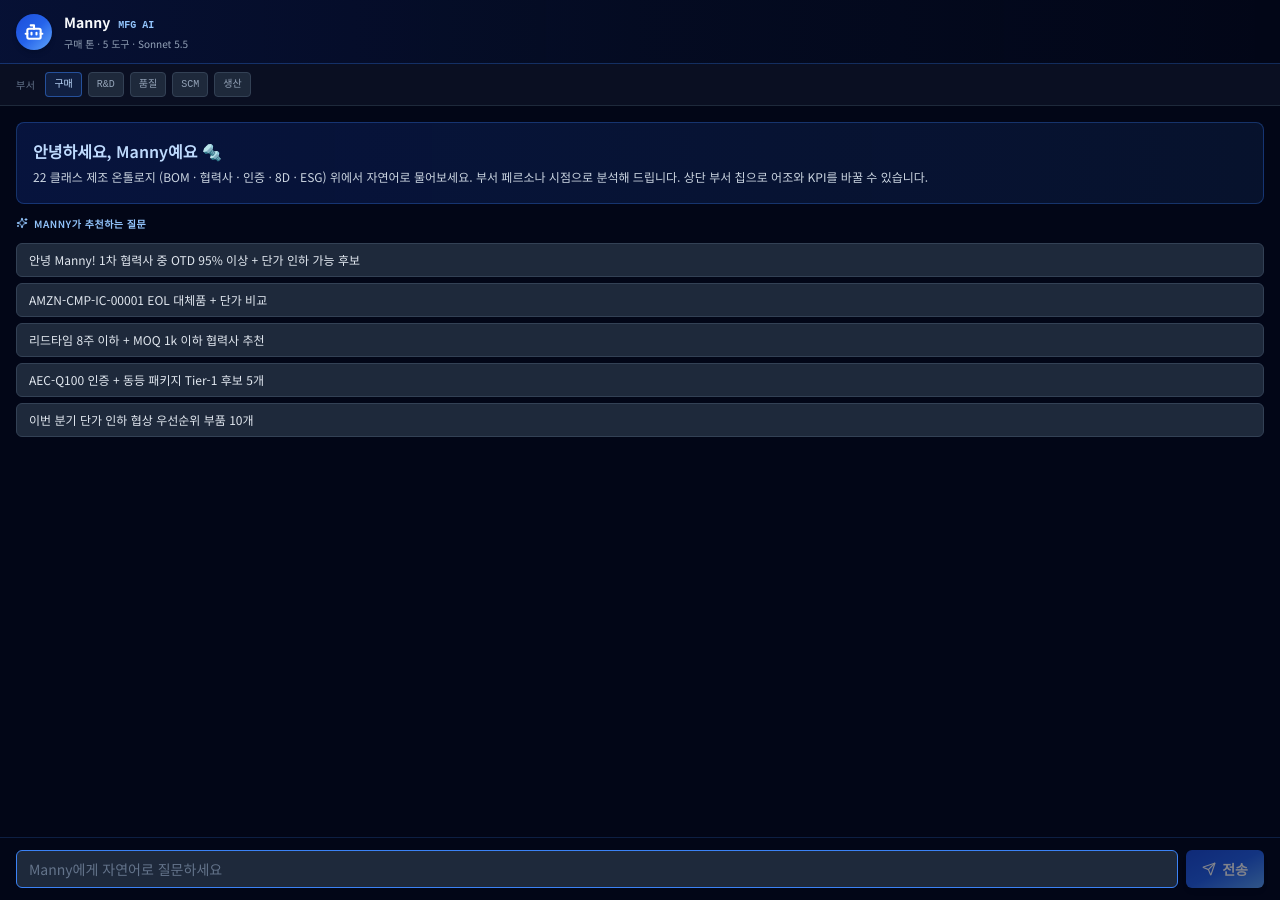
Test: Manny popup page › switching persona mid-stream cancels the stream
Step 1. Click the button "AMZN-CMP-IC-00001 EOL 대체품 + 단가 비교" → (148, 299), box [16,282,1264,316]
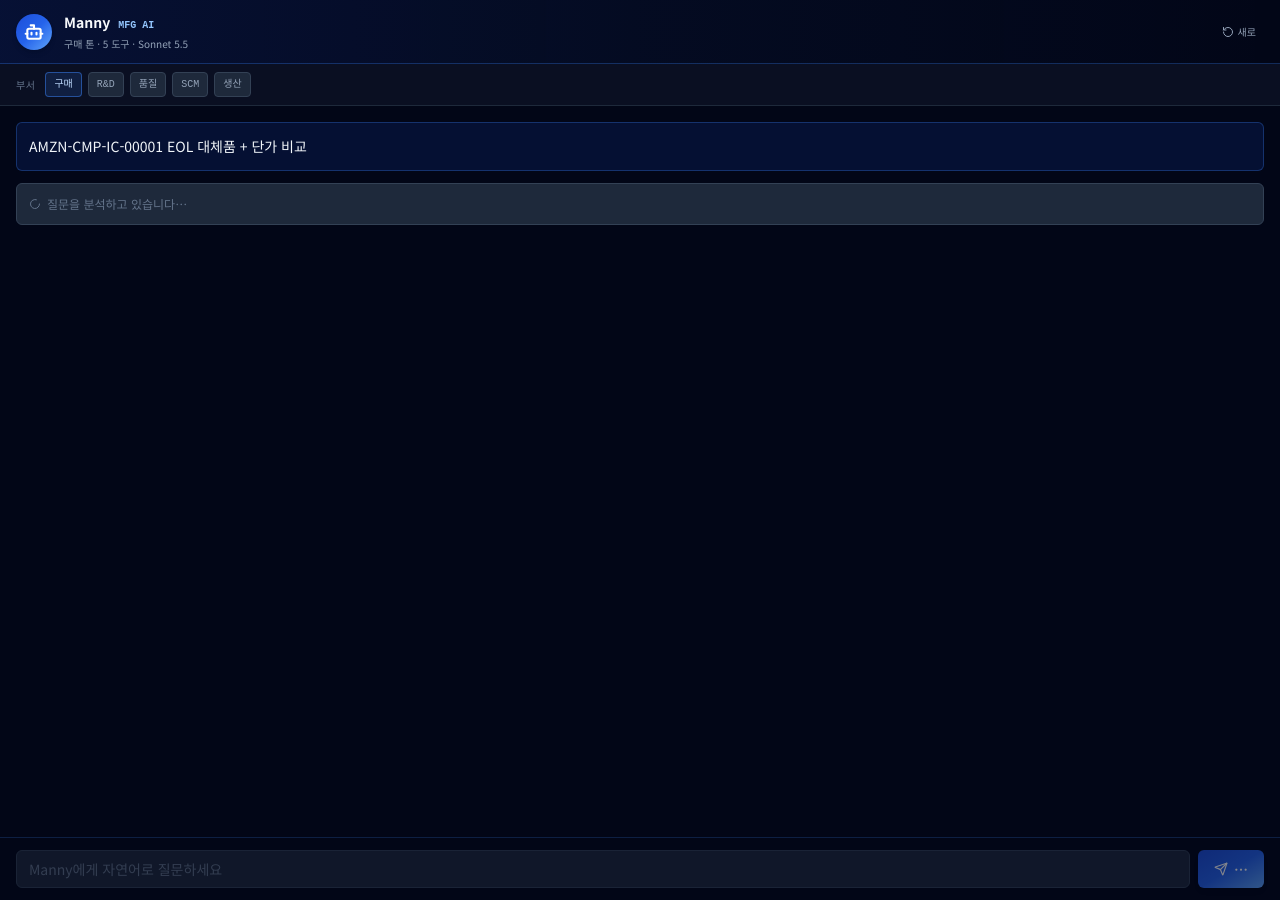
Step 2. Click the button "생산" → (232, 84), box [214,72,251,97]
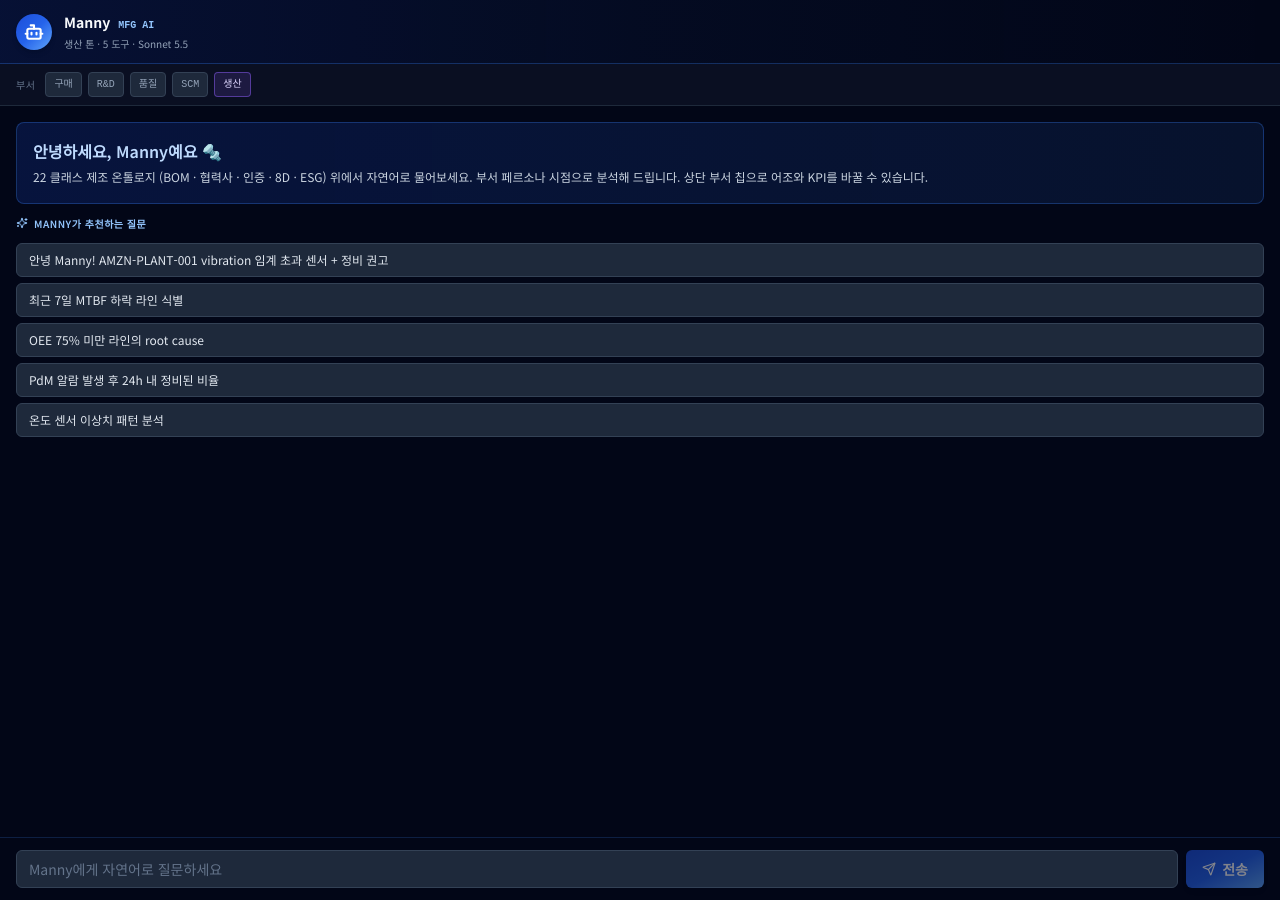
Check: the field with placeholder "Manny에게 자연어로 질문하세요" is enabled, box [16,850,1178,888]
